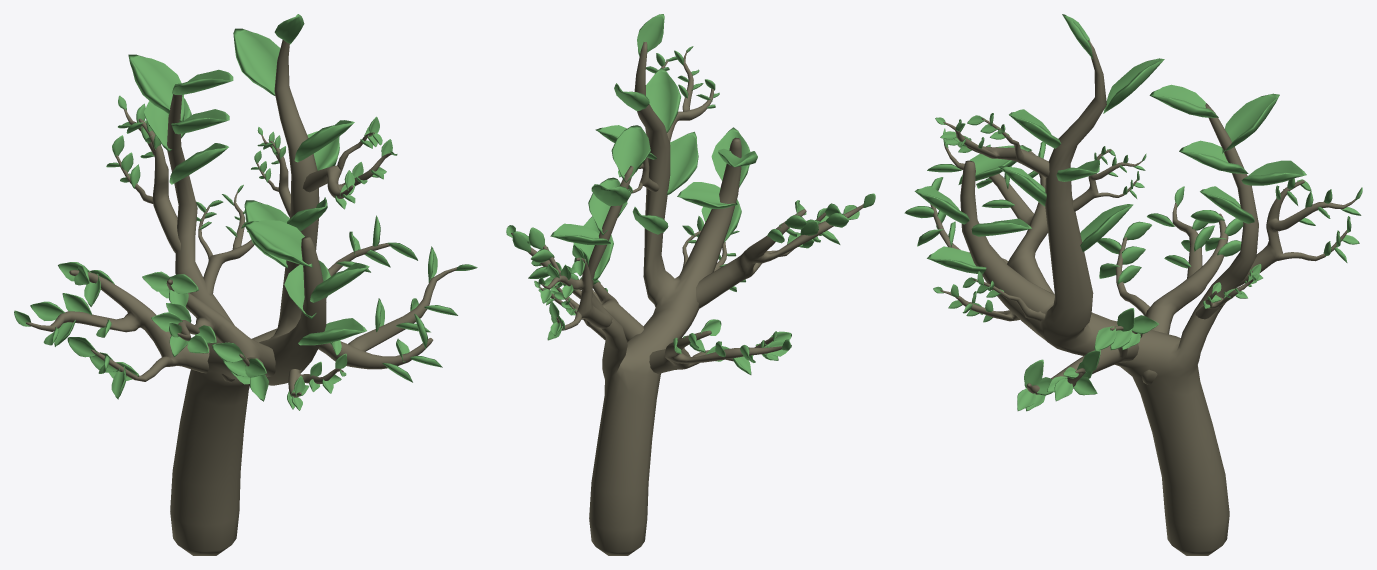
Rendered from canopy.fbx.
The picture shows the model from 3 angles, left to right: view 1: azimuth 30°, elevation 25°; view 2: azimuth 150°, elevation 25°; view 3: azimuth 270°, elevation 25°; orthographic projection. The views are drawn at different scales.
Visible parts, largest first — view 1: pCylinder11; view 2: pCylinder11; view 3: pCylinder11.
Boxes of the visible parts, x1=… form: pCylinder11: x1=14, y1=14, x2=477, y2=555; pCylinder11: x1=506, y1=14, x2=875, y2=555; pCylinder11: x1=904, y1=14, x2=1362, y2=555.
Size of the model in its own units: 40.78 by 56.45 by 43.23.
